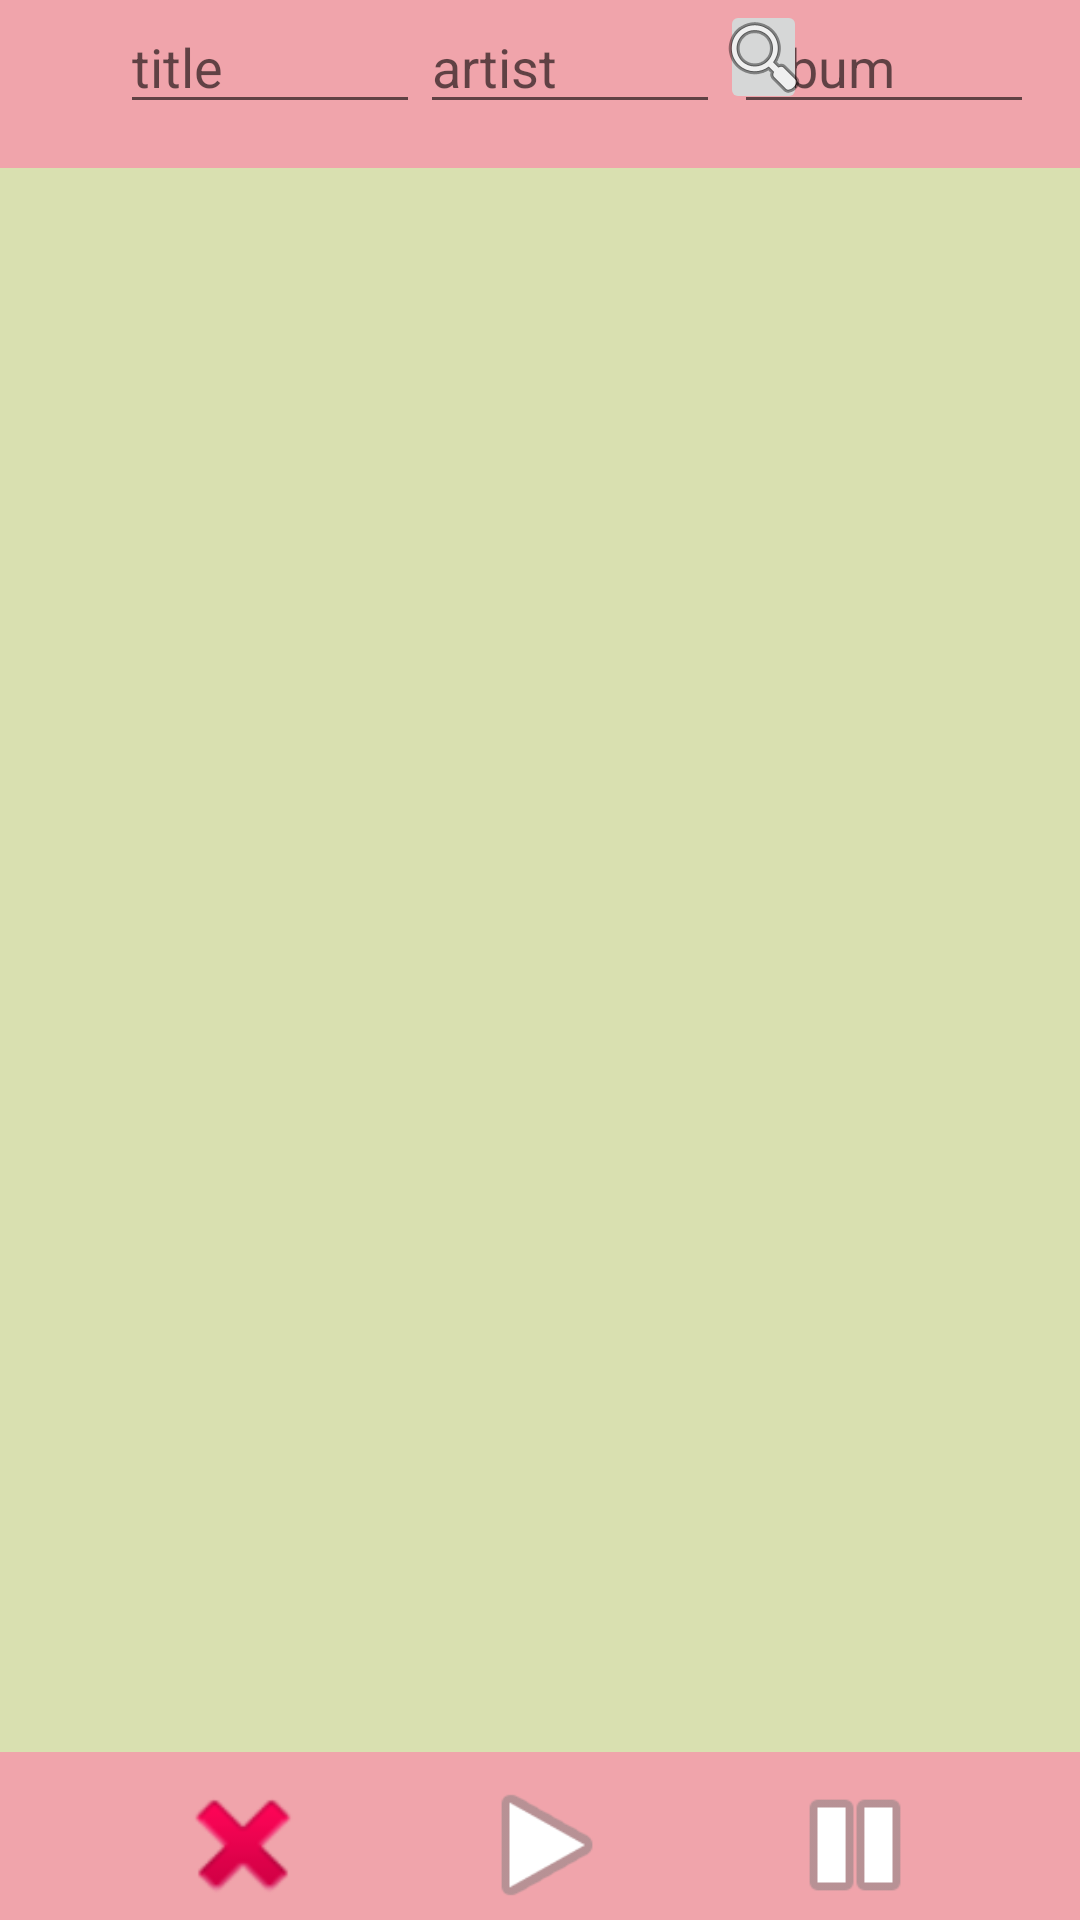

Where to tap for icons on this 1080*1920 app screen, as (x,y):
delete: (243,1845)
pause: (855,1845)
play: (547,1845)
search: (767,59)
